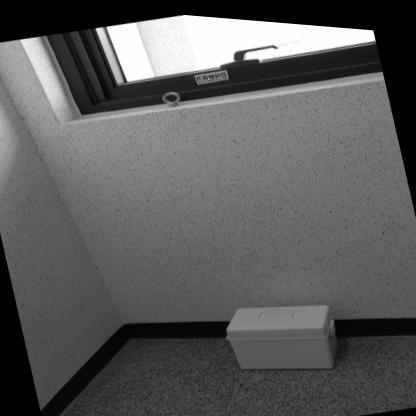DDL: (218, 281, 344, 386)
